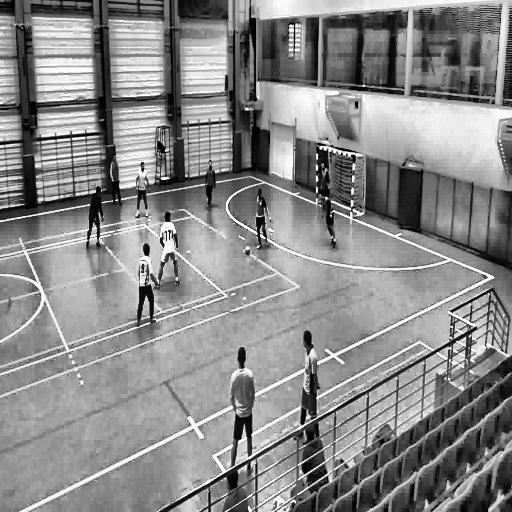ball: (244, 243, 252, 257)
player: (227, 345, 254, 479), (292, 328, 322, 446), (155, 212, 182, 292), (135, 243, 158, 329), (86, 185, 106, 251), (253, 188, 272, 256), (319, 191, 338, 253), (135, 161, 152, 223), (109, 153, 123, 208), (204, 160, 218, 210), (319, 161, 331, 198)
